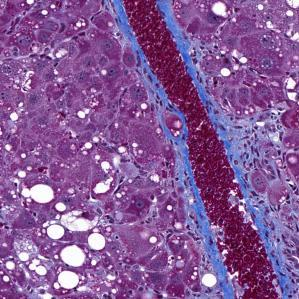fibrosis: (219, 103, 287, 169)
